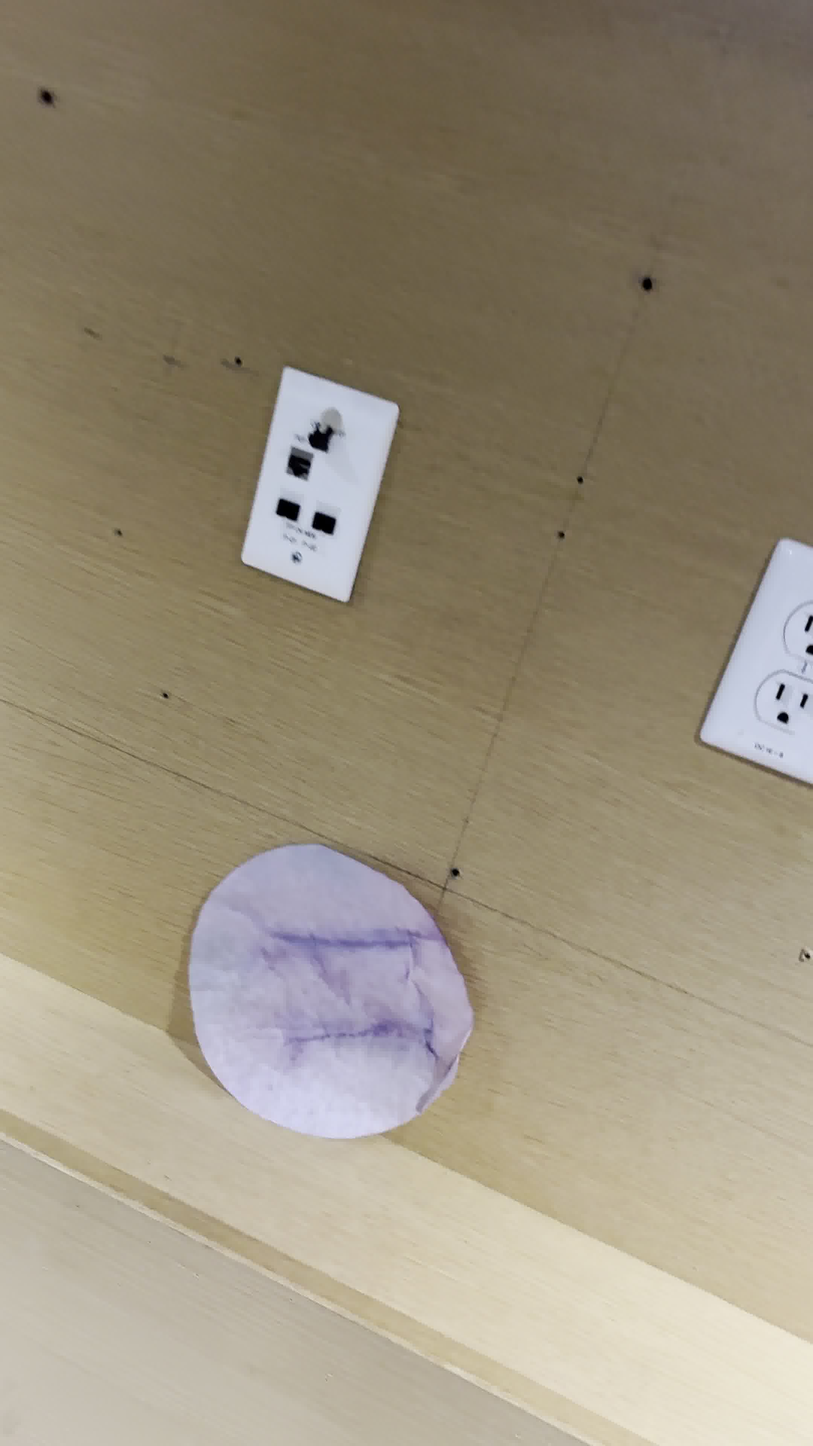Target: (186, 842, 470, 1140)
